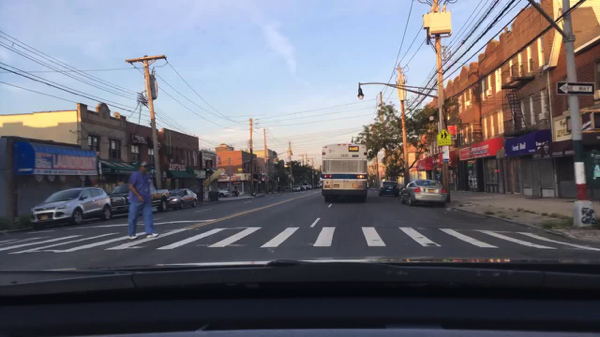bus: (322, 141, 366, 204)
car: (30, 187, 112, 228), (398, 180, 447, 206), (167, 188, 198, 211), (378, 181, 398, 197), (395, 185, 405, 197), (219, 190, 230, 199), (292, 185, 301, 192), (307, 184, 313, 190), (318, 181, 322, 188), (301, 186, 306, 191), (366, 183, 369, 189)
person: (125, 162, 158, 241), (234, 185, 239, 198)
traffic light: (590, 110, 599, 131), (565, 116, 570, 132), (272, 158, 275, 166), (275, 159, 278, 166)
traffic sign: (556, 82, 595, 96), (436, 130, 452, 146), (441, 146, 450, 164), (242, 174, 249, 181), (236, 168, 242, 171)
truck: (108, 184, 169, 216)
